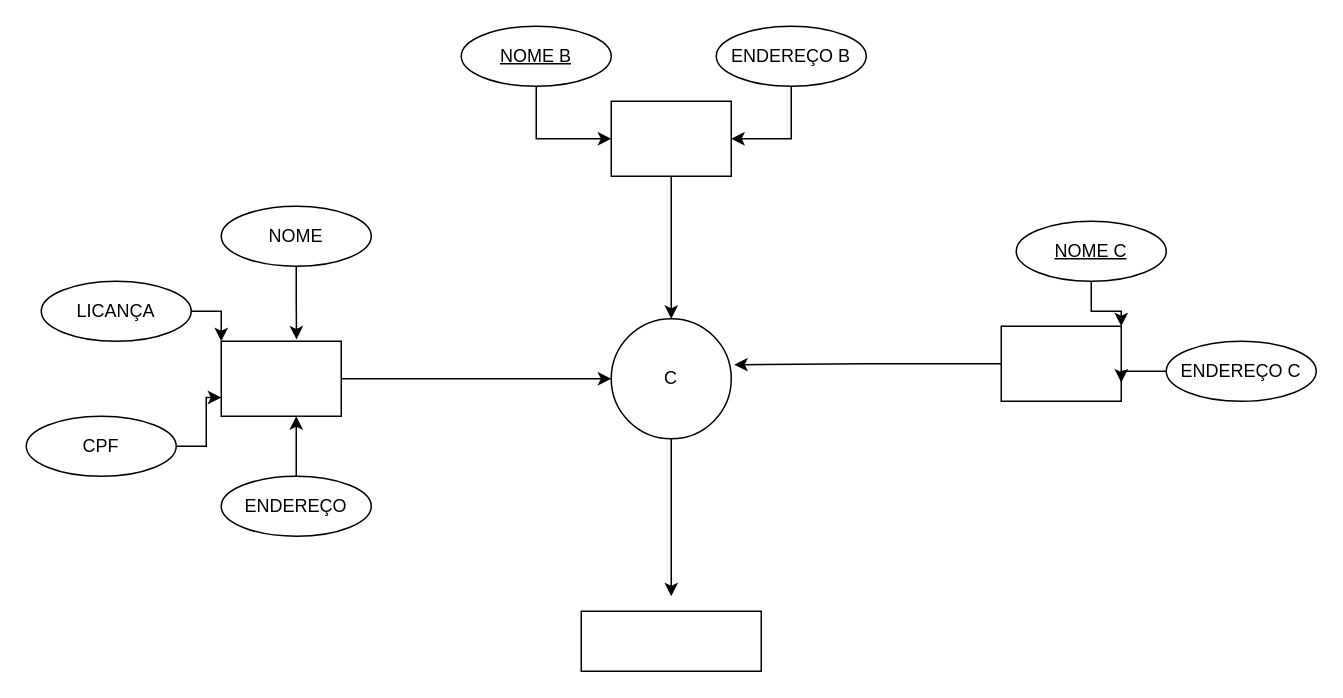
Some shapes in this 1343 by 698 pixel diagram are drawn without their labels. The centre of each missing label's shape, as x and y in pixels:
"BANCO" goes at (x=670, y=138).
"COMPANHIA" goes at (x=1060, y=363).
"OWNER" goes at (x=670, y=640).
"PESSOA" goes at (x=280, y=378).
